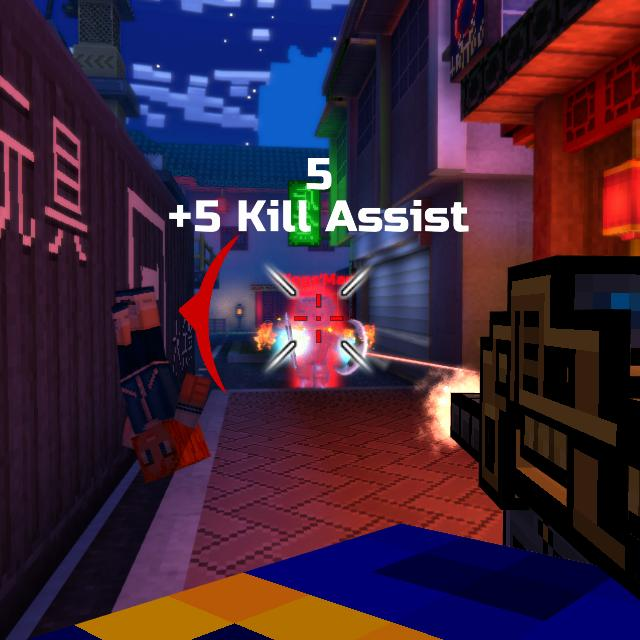Enemy: (289, 297, 340, 391)
